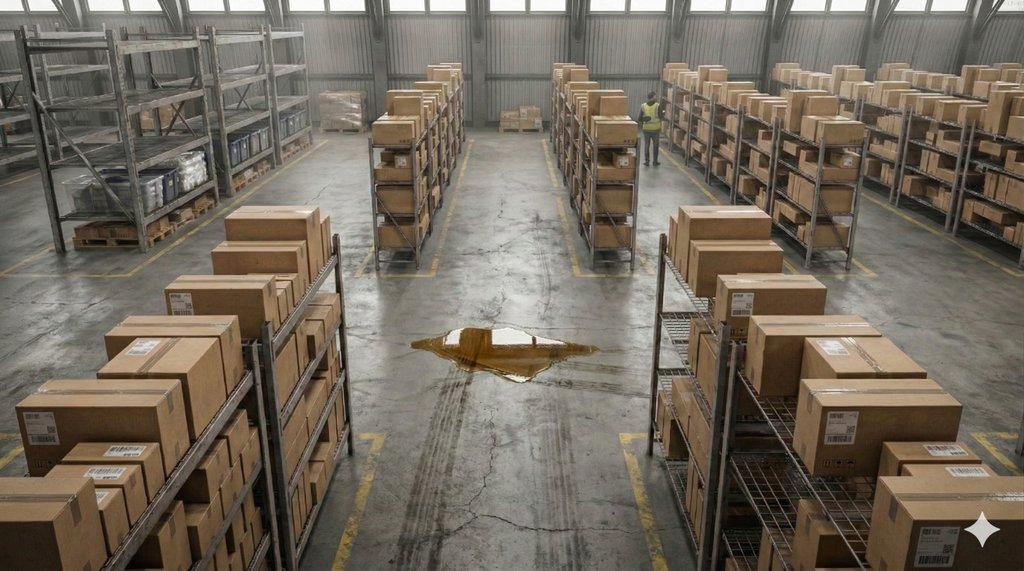empty_shelf: (38, 11, 203, 152), (212, 6, 305, 116)
person: (630, 76, 677, 169)
safety_vest: (641, 95, 661, 143)
spill: (399, 296, 606, 406)
